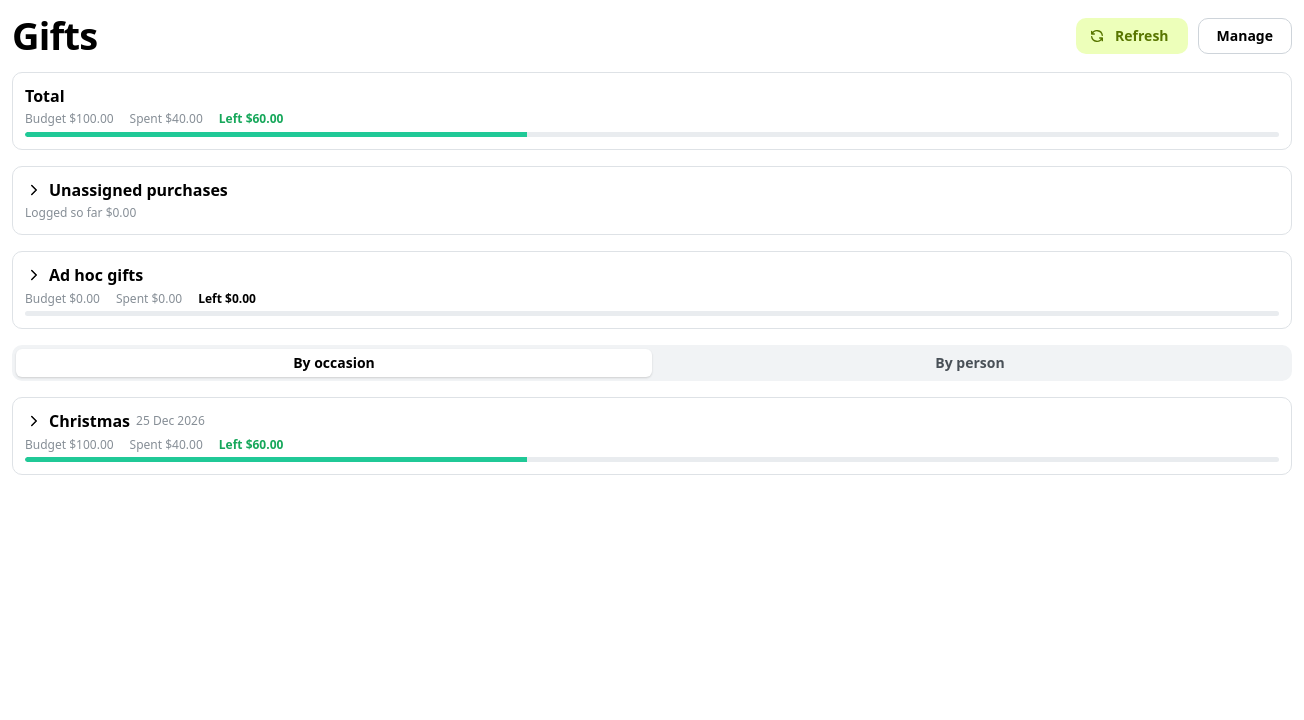
Test: GiftsScreen private gifts for the current member › shows spend and purchases for a gift whose recipient is not the current member
The width and height of the screenshot is (1304, 720).
Click the button "Christmas". click: click(90, 421)
box: [25,410,1279,462]
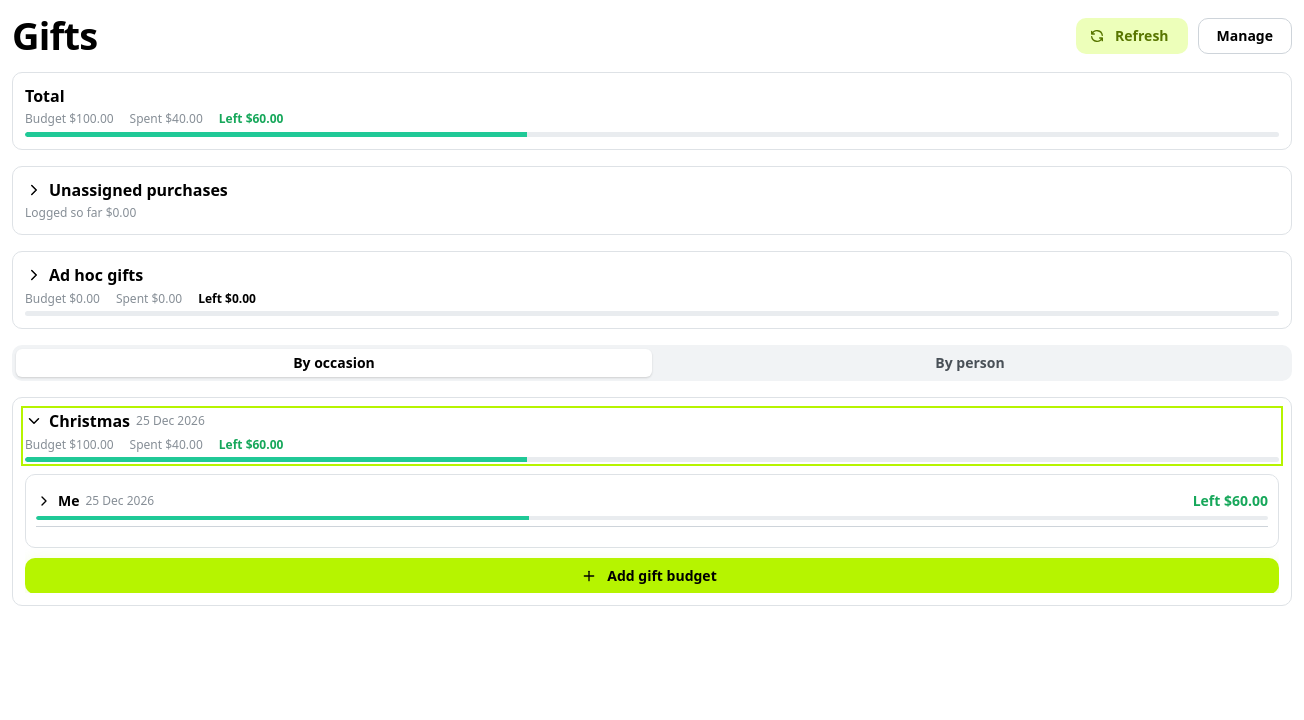
Click the button "Me 25 Dec 2026 Left $60.00". click: click(120, 501)
box: [36,491,1268,512]
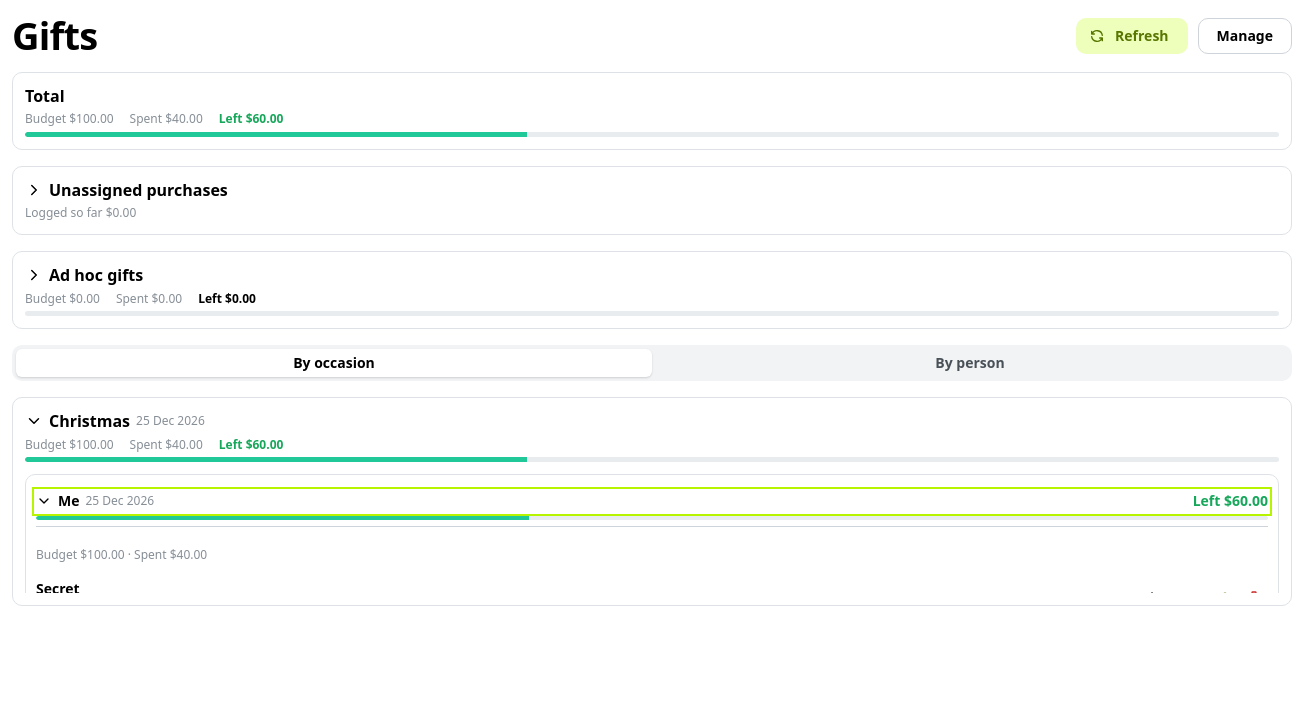
Expected: the text "Secret" is shown, [36,579,80,593]
